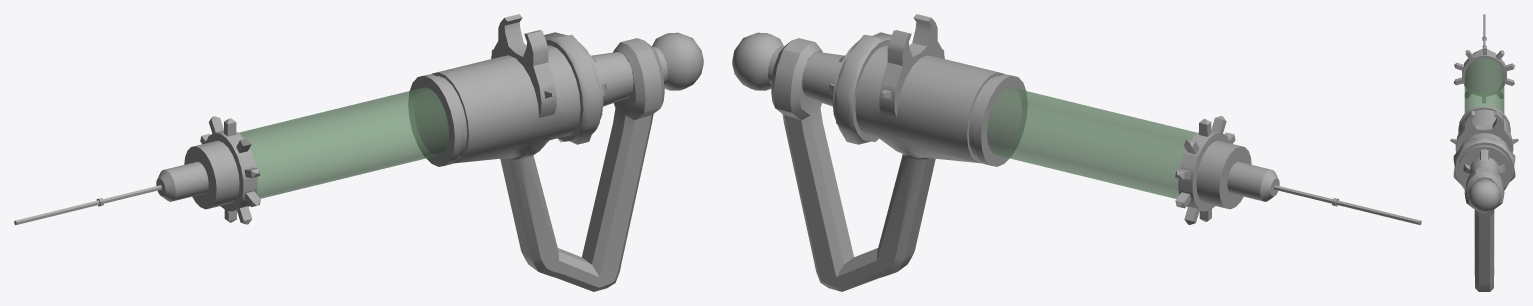
File: LD_CureGun.fbx
3 views of the same model, side by side, from view 1: azimuth 30°, elevation 25°; view 2: azimuth 150°, elevation 25°; view 3: azimuth 270°, elevation 25° (orthographic). The views are drawn at different scales.
Visible parts, largest first — view 1: pCube2; view 2: pCube2; view 3: pCube2.
Boxes of the visible parts, x1,y1,x2,y2 form: pCube2: (14, 14, 703, 291); pCube2: (732, 14, 1421, 291); pCube2: (1450, 14, 1518, 291).
Bounding box in the file's own units: 0.6287 × 0.2459 × 0.0964.
